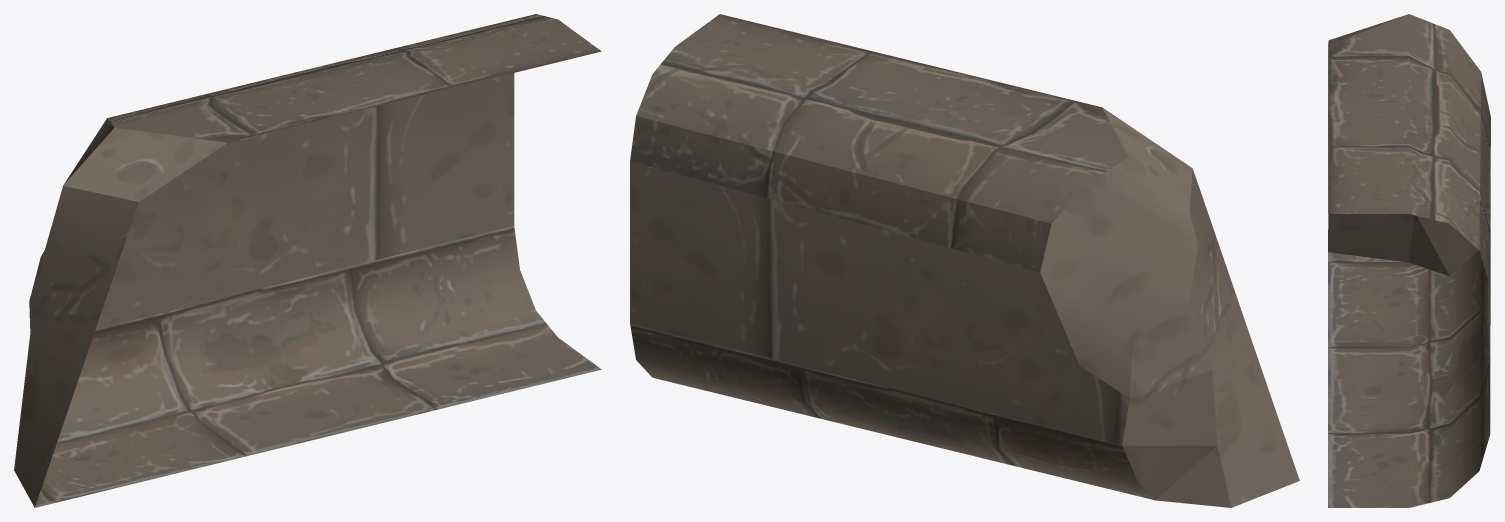
Rendered from Ruins_Ledge_Broken_01c.fbx.
3 renders of one model, left to right at view 1: azimuth 30°, elevation 25°; view 2: azimuth 150°, elevation 25°; view 3: azimuth 270°, elevation 25°, orthographic. The views are drawn at different scales.
Visible parts, largest first — view 1: Ruins_Ledge_Broken_01c; view 2: Ruins_Ledge_Broken_01c; view 3: Ruins_Ledge_Broken_01c.
Part boxes in pixels (x1,y1,x2,y2): Ruins_Ledge_Broken_01c: (14, 14, 601, 507); Ruins_Ledge_Broken_01c: (630, 14, 1299, 507); Ruins_Ledge_Broken_01c: (1328, 14, 1490, 507).
Bounding box in the file's own units: 1.87 × 1 × 0.5018.
Materials: 1 (1 with a texture image).
